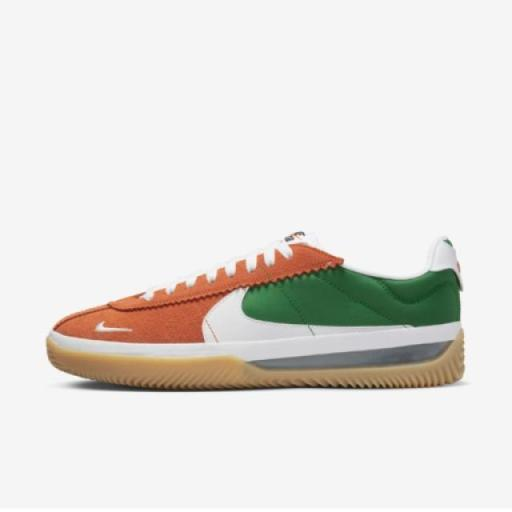Nike: (91, 318, 132, 337)
